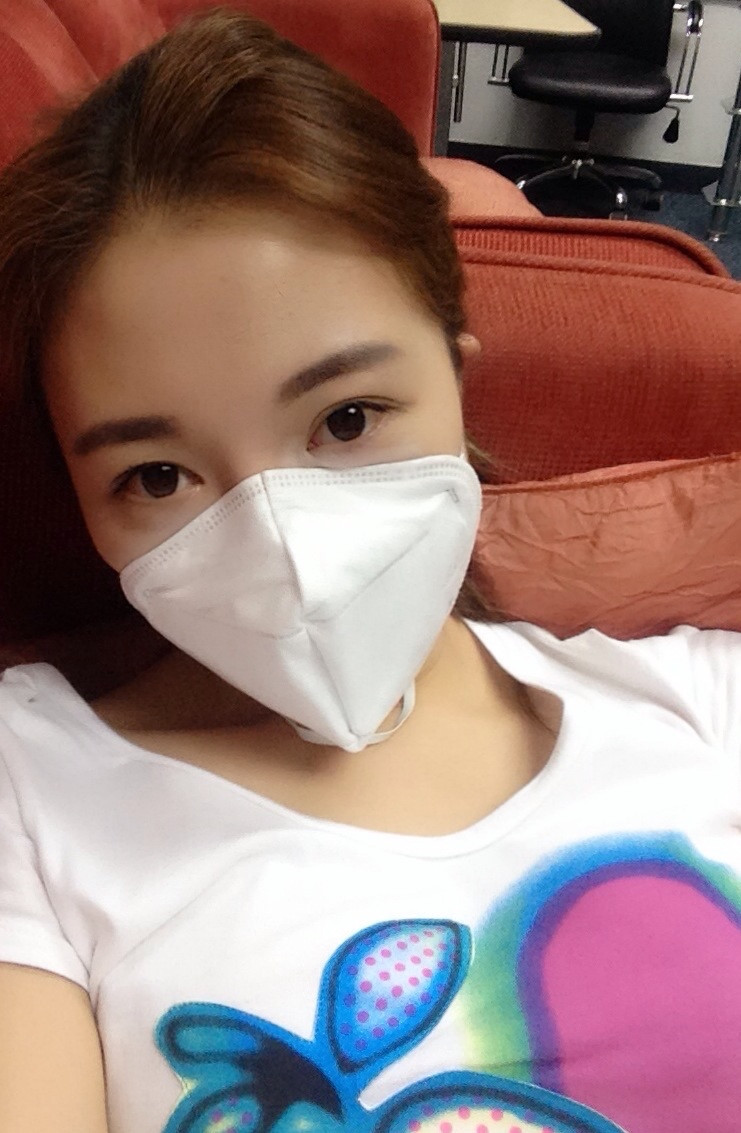face_mask: (94, 191, 472, 753)
